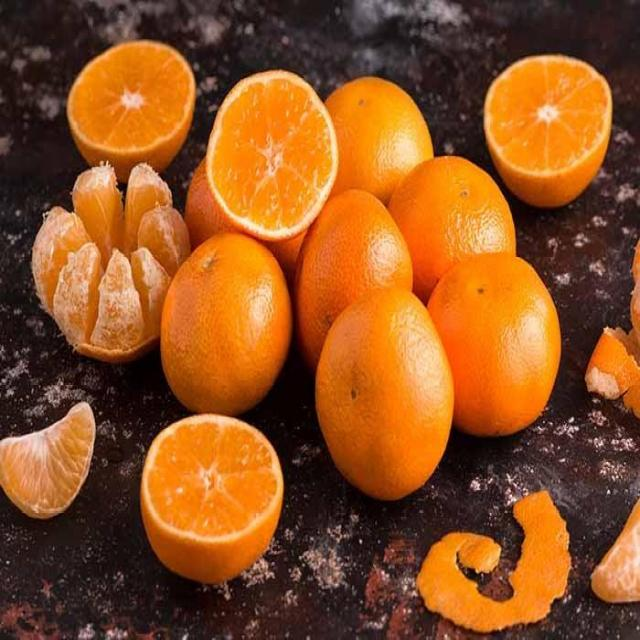10_tangerine: (308, 277, 457, 505), (32, 163, 190, 365), (420, 251, 566, 440), (139, 404, 290, 580), (159, 230, 294, 423), (207, 64, 341, 241), (296, 192, 418, 380), (387, 149, 521, 307), (488, 48, 610, 205), (310, 70, 436, 218), (70, 38, 197, 178), (0, 392, 99, 532)
